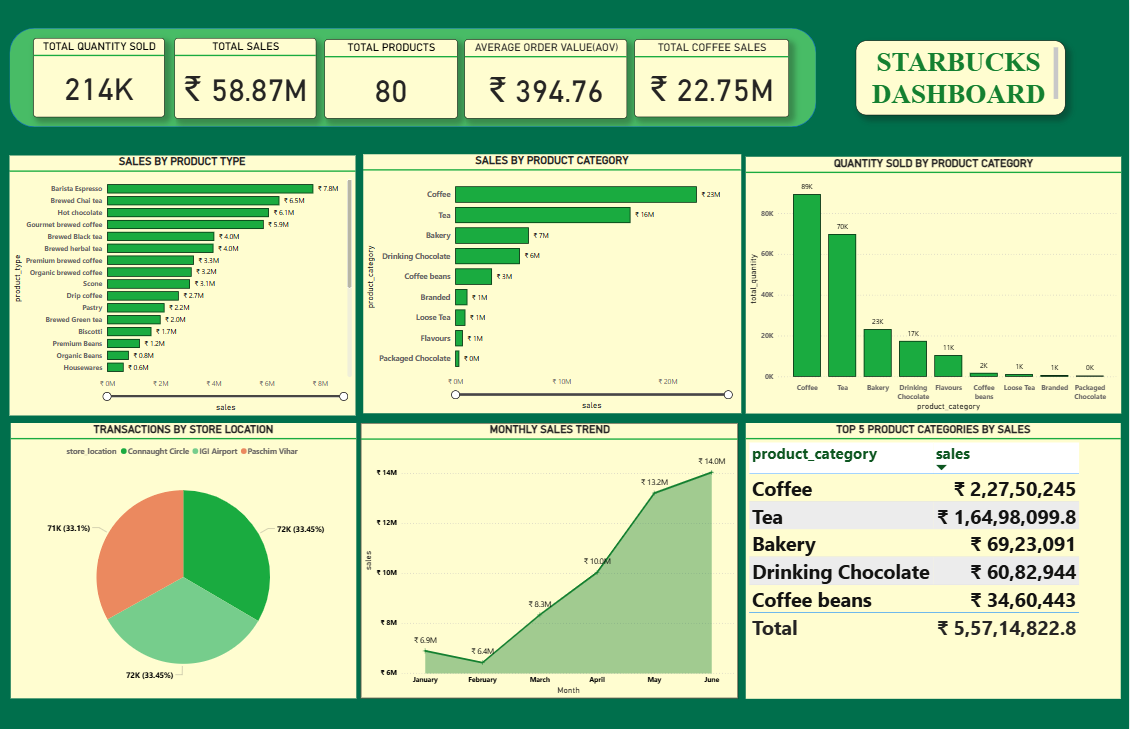

This screenshot's page, from the dashboard's own definition file:
{"tool":"powerbi","page":{"name":"Starbucks_dashboard","canvas":[2000,1300],"ordinal":0},"visuals":[{"type":"shape","box":[22.5,52.5,1425,175],"z":0},{"type":"card","title":"TOTAL QUANTITY SOLD","fields":{"Values":["Table.total_quantity"]},"box":[64,70,232,140],"z":1000},{"type":"card","title":"TOTAL SALES","fields":{"Values":["Table.sales"]},"box":[312.5,70,250,142.5],"z":2000},{"type":"barChart","title":"SALES BY PRODUCT TYPE","fields":{"Y":["Table.sales"],"Category":["Products_Table.product_type"]},"box":[22.5,277.5,610,457.5],"z":3000},{"type":"barChart","title":"SALES BY PRODUCT CATEGORY ","fields":{"Category":["Products_Table.product_category"],"Y":["Table.sales"]},"box":[646.7,276.7,666.7,456.7],"z":4000},{"type":"card","title":"TOTAL PRODUCTS","fields":{"Values":["Table.total_products"]},"box":[577.5,72.5,235,140],"z":5000},{"type":"card","title":"AVERAGE ORDER VALUE(AOV)","fields":{"Values":["Table.AOV"]},"box":[825,72.5,287.5,140],"z":6000},{"type":"card","title":"TOTAL COFFEE SALES","fields":{"Values":["Table.sales_cofee"]},"box":[1125,72.5,272.5,137.5],"z":7000},{"type":"textbox","box":[1516,74,370,132],"z":8000},{"type":"pieChart","title":"TRANSACTIONS BY STORE LOCATION","fields":{"Category":["Orders_Table.store_location"],"Y":["Sum(Orders_Table.transaction_qty)"]},"box":[23.3,750,610,486.7],"z":9000},{"type":"lineChart","title":"MONTHLY SALES TREND ","fields":{"Y":["Table.sales"],"Category":["Orders_Table.transaction_date.Variation.Date Hierarchy.Month"]},"box":[643.3,750,666.7,486.7],"z":10000},{"type":"lineClusteredColumnComboChart","title":"QUANTITY SOLD BY PRODUCT CATEGORY","fields":{"Category":["Products_Table.product_category"],"Y":["Table.total_quantity"]},"box":[1323.3,280,663.3,453.3],"z":11000},{"type":"tableEx","title":"TOP 5 PRODUCT CATEGORIES BY SALES","fields":{"Values":["Products_Table.product_category","Table.sales"]},"box":[1322.5,750,662.5,487.5],"z":12000}]}

Visuals, with their boxes in screenshot pixels (x1, y1, x2, y2), scaled from the page's 2000x1300 canvas onto the 1130x729 screenshot:
shape: bbox(13, 29, 818, 128)
"TOTAL QUANTITY SOLD" card: bbox(36, 39, 167, 118)
"TOTAL SALES" card: bbox(177, 39, 318, 119)
"SALES BY PRODUCT TYPE" barChart: bbox(13, 156, 357, 412)
"SALES BY PRODUCT CATEGORY " barChart: bbox(365, 155, 742, 411)
"TOTAL PRODUCTS" card: bbox(326, 41, 459, 119)
"AVERAGE ORDER VALUE(AOV)" card: bbox(466, 41, 629, 119)
"TOTAL COFFEE SALES" card: bbox(636, 41, 790, 118)
textbox: bbox(857, 41, 1066, 116)
"TRANSACTIONS BY STORE LOCATION" pieChart: bbox(13, 421, 358, 694)
"MONTHLY SALES TREND " lineChart: bbox(363, 421, 740, 694)
"QUANTITY SOLD BY PRODUCT CATEGORY" lineClusteredColumnComboChart: bbox(748, 157, 1122, 411)
"TOP 5 PRODUCT CATEGORIES BY SALES" tableEx: bbox(747, 421, 1122, 694)
